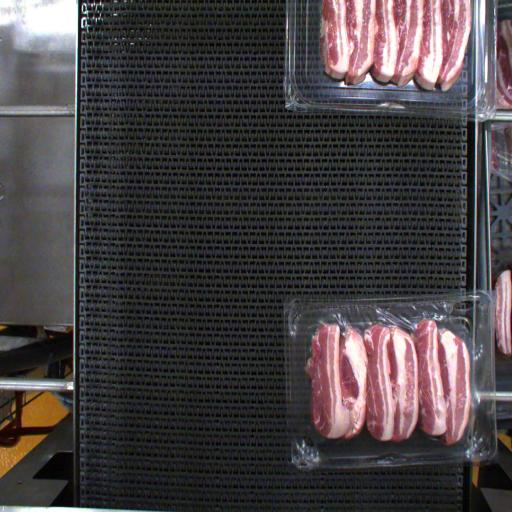unsealed: (290, 296, 490, 460)
